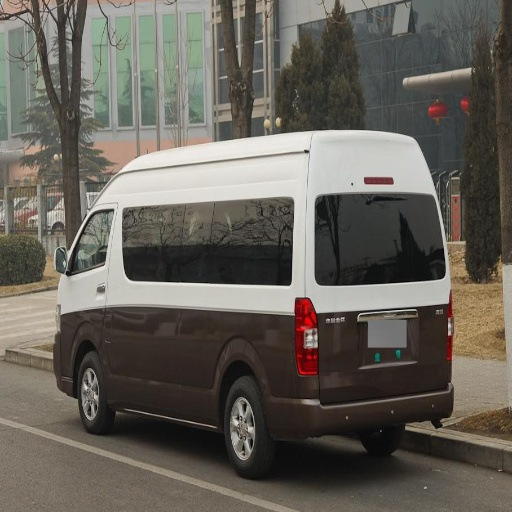back_bumper: (282, 359, 454, 434)
trunk: (138, 281, 448, 426)
